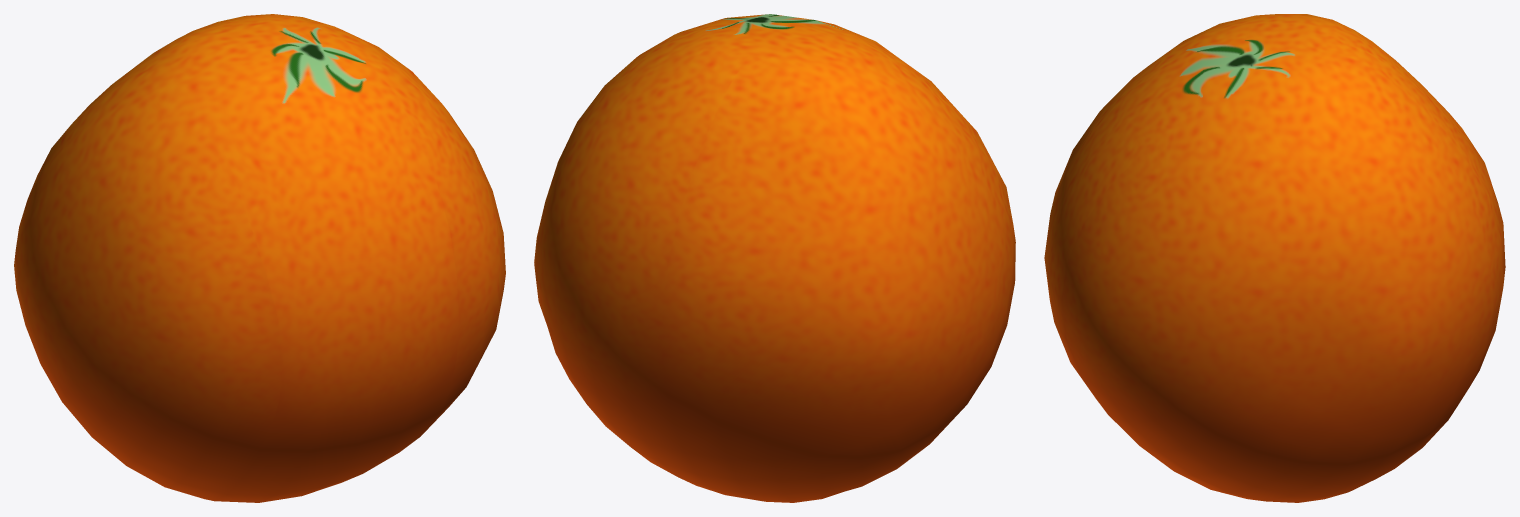
File: jeruk.glb
The picture shows the model from 3 angles, left to right: view 1: azimuth 30°, elevation 25°; view 2: azimuth 150°, elevation 25°; view 3: azimuth 270°, elevation 25°; orthographic projection.
Parts seen in each view (by area): view 1: Orange; view 2: Orange; view 3: Orange.
Part boxes in pixels (bbox=[...]): Orange: bbox=[14, 14, 505, 502]; Orange: bbox=[534, 14, 1015, 502]; Orange: bbox=[1044, 14, 1505, 502].
Bounding box in the file's own units: 0.0579 × 0.0598 × 0.0567.
Materials: 1 (1 with a texture image).
